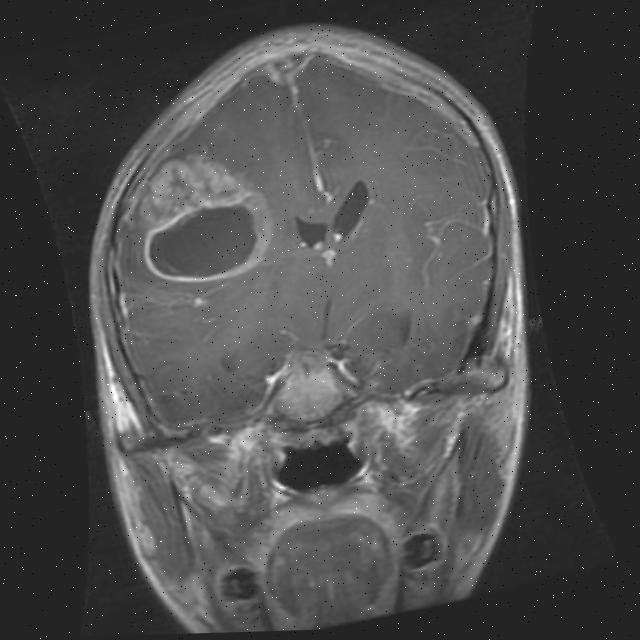Glioma: (125, 136, 283, 296)
Pituitary: (264, 352, 348, 426)
